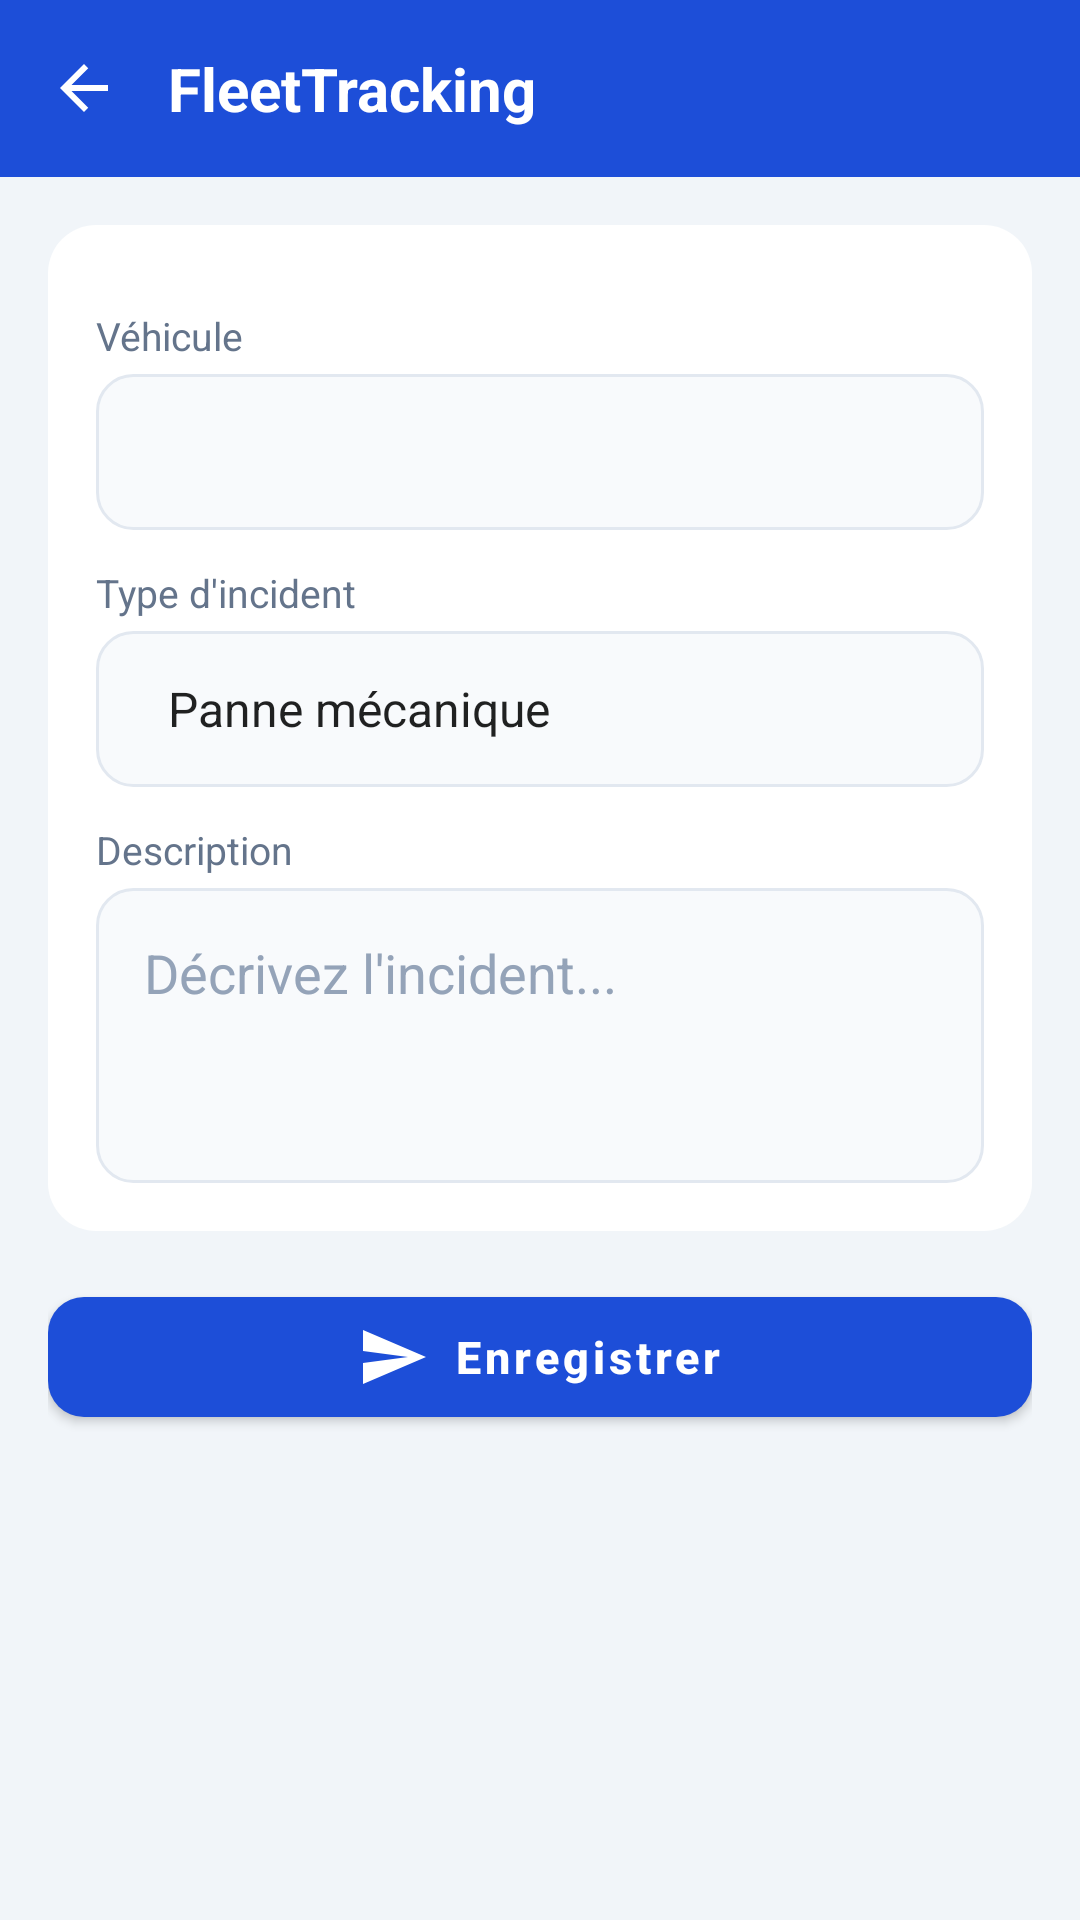

Where icons sit on this 1080*1920 app screen, as (x1, y1, x2, y2):
Retour: (60, 64, 108, 112)
